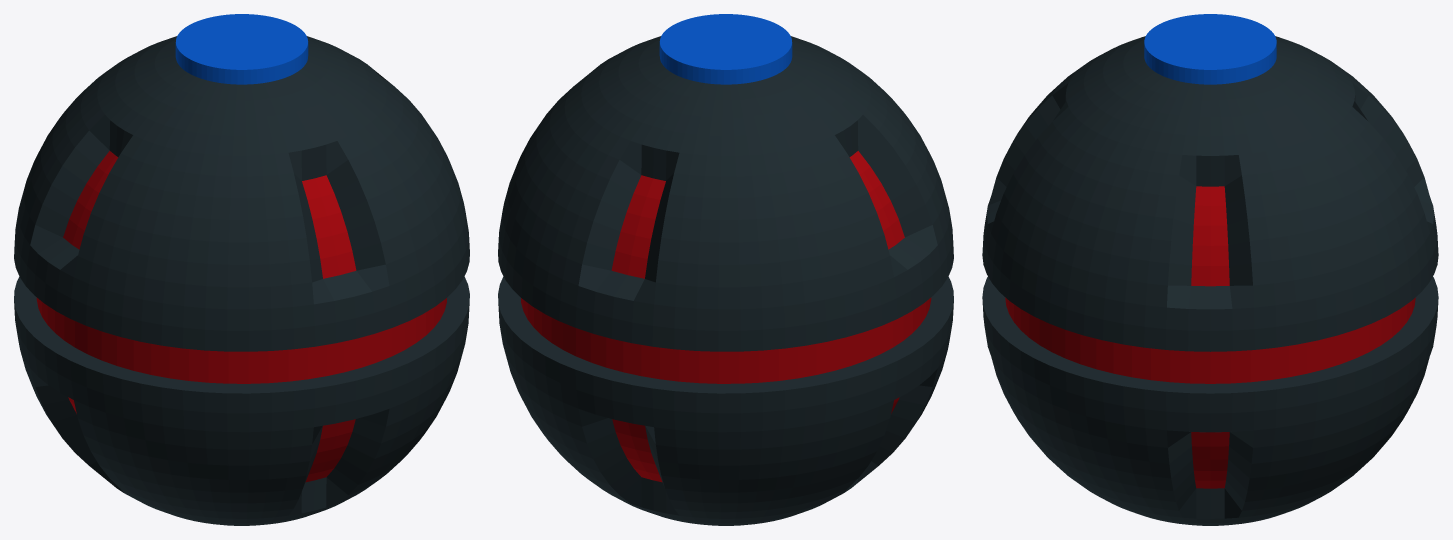
File: grenade.fbx
3 renders of one model, left to right at view 1: azimuth 30°, elevation 25°; view 2: azimuth 150°, elevation 25°; view 3: azimuth 270°, elevation 25°, orthographic.
Visible parts, largest first — view 1: Sphere; view 2: Sphere; view 3: Sphere.
Boxes of the visible parts, box(x1,y1,x2,y2) form: Sphere: box(14, 14, 469, 525); Sphere: box(498, 14, 953, 525); Sphere: box(982, 14, 1438, 525).
Bounding box in the file's own units: 198 × 222 × 198.
